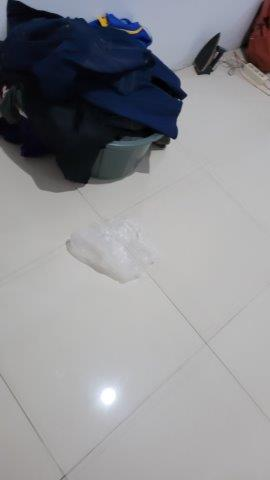plastik: (68, 210, 156, 280)
